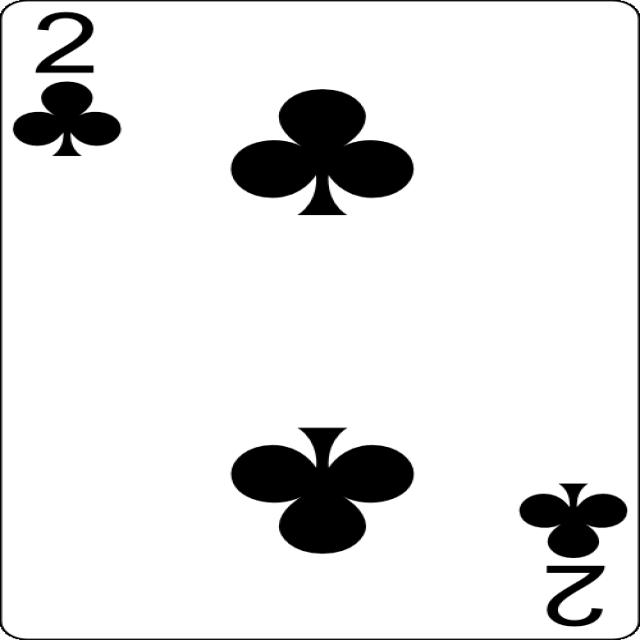Club: (231, 89, 414, 216), (230, 428, 414, 553), (518, 483, 628, 558), (12, 82, 122, 156)
